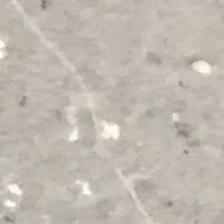Non_Crack: (13, 28, 224, 220)
